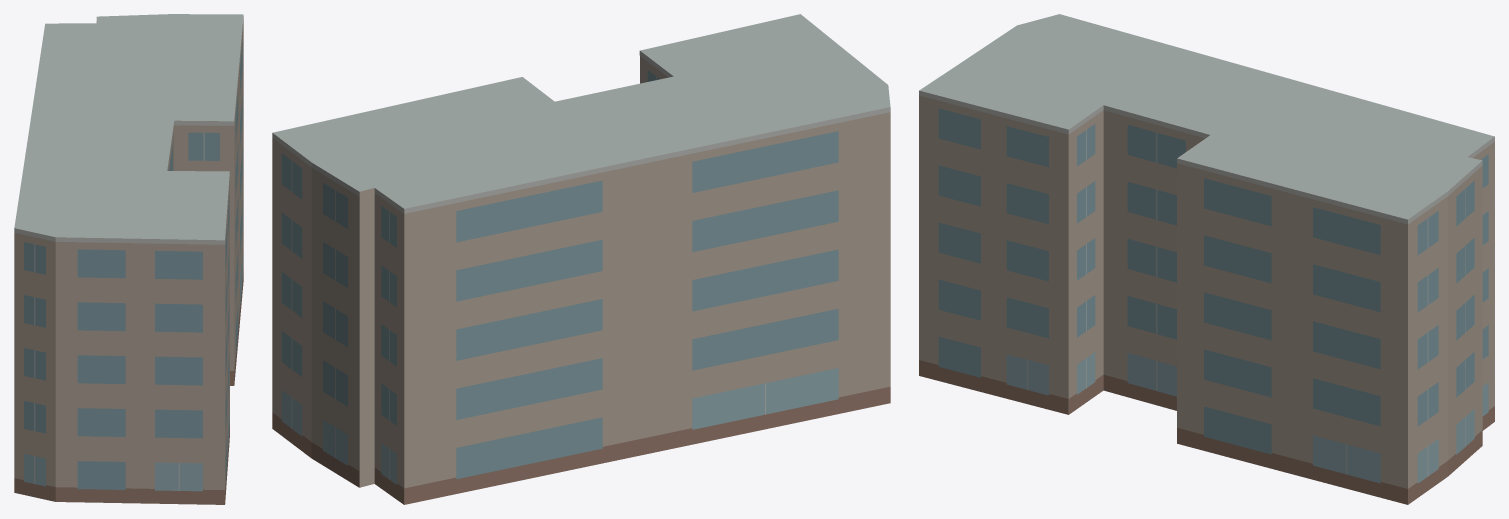
Rendered from survey-upis-32491875.glb.
3 views of the same model, side by side, from view 1: azimuth 30°, elevation 25°; view 2: azimuth 150°, elevation 25°; view 3: azimuth 270°, elevation 25° (orthographic). The views are drawn at different scales.
Parts seen in each view (by area): view 1: survey-upis-32491875.tmp; view 2: survey-upis-32491875.tmp; view 3: survey-upis-32491875.tmp.
Part boxes in pixels (x1,y1,x2,y2): survey-upis-32491875.tmp: (14, 14, 243, 504); survey-upis-32491875.tmp: (272, 14, 890, 504); survey-upis-32491875.tmp: (919, 14, 1494, 504).
Size of the model in its own units: 22.2 by 14.35 by 26.26.
